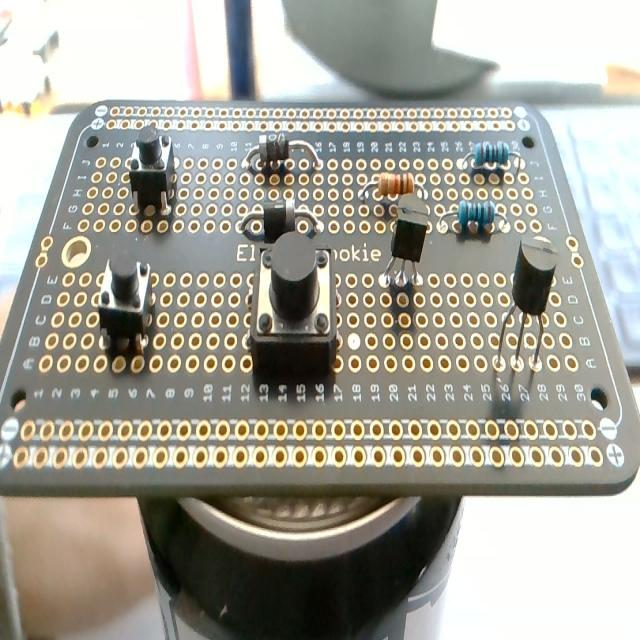diode: (244, 134, 320, 180), (238, 201, 319, 243), (464, 140, 524, 180)
resistor: (360, 168, 422, 209), (458, 200, 494, 233), (476, 140, 509, 166)
switch: (249, 232, 338, 379), (98, 256, 153, 358), (128, 124, 176, 216)
transistor: (497, 235, 559, 377), (382, 192, 432, 290)
